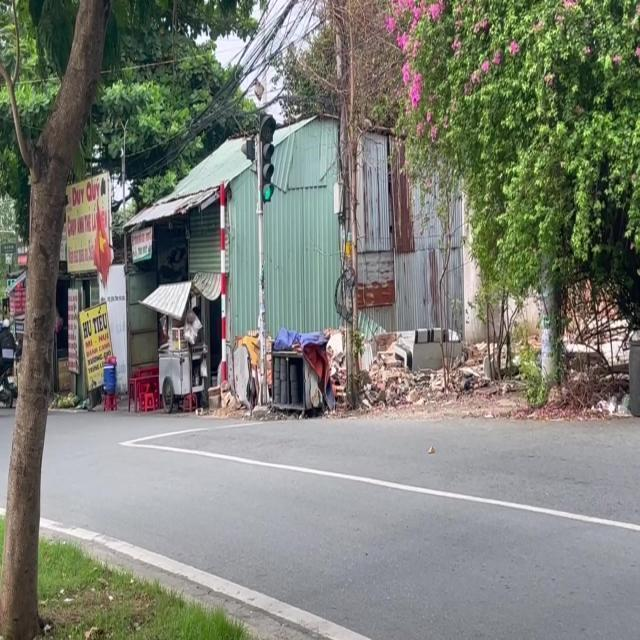green_light: (268, 116, 284, 203)
